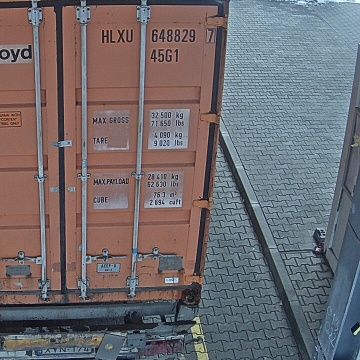serial_id: (102, 29, 213, 43)
